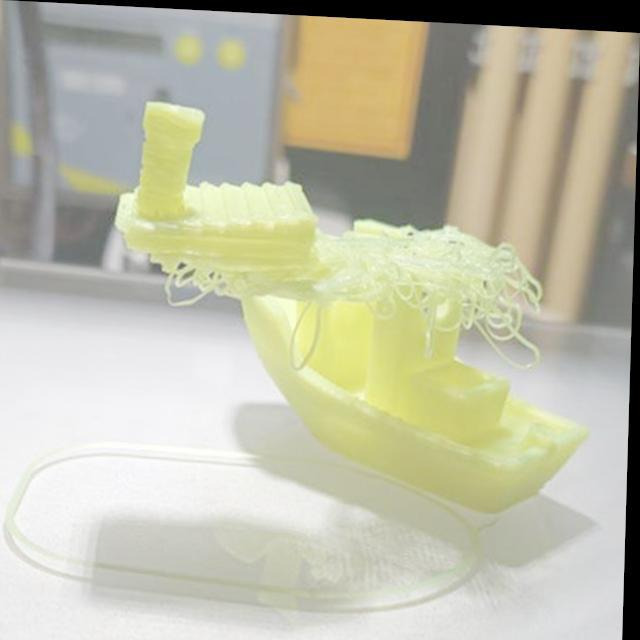spaghetti: (290, 212, 546, 378), (162, 252, 268, 310)
